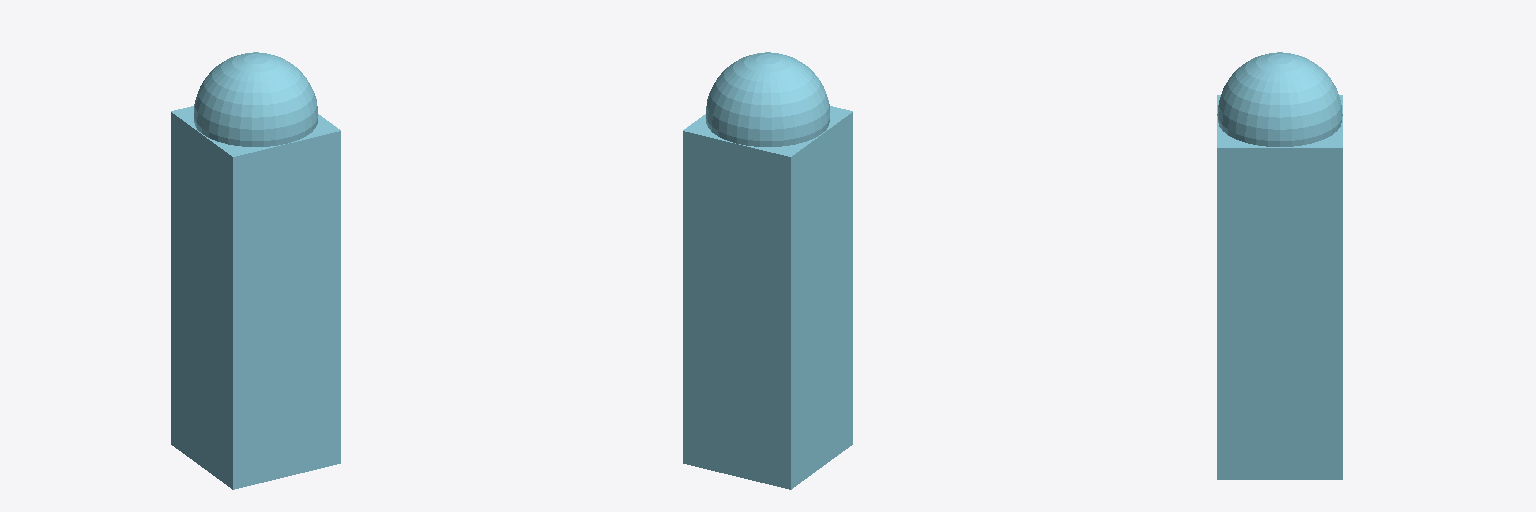
3 views of the same model, side by side, from view 1: azimuth 30°, elevation 25°; view 2: azimuth 150°, elevation 25°; view 3: azimuth 270°, elevation 25° (orthographic).
Parts seen in each view (by area): view 1: 立方體.003, 球體.004_球體.005; view 2: 立方體.003, 球體.004_球體.005; view 3: 立方體.003, 球體.004_球體.005.
Boxes of the visible parts, x1=… form: 立方體.003: x1=171, y1=106, x2=340, y2=489; 球體.004_球體.005: x1=194, y1=52, x2=317, y2=146; 立方體.003: x1=683, y1=106, x2=852, y2=489; 球體.004_球體.005: x1=706, y1=52, x2=829, y2=146; 立方體.003: x1=1217, y1=95, x2=1342, y2=479; 球體.004_球體.005: x1=1217, y1=52, x2=1342, y2=146.
Size of the model in its own units: 0.4103 by 1.43 by 0.4103.
2 materials, 1 textured.